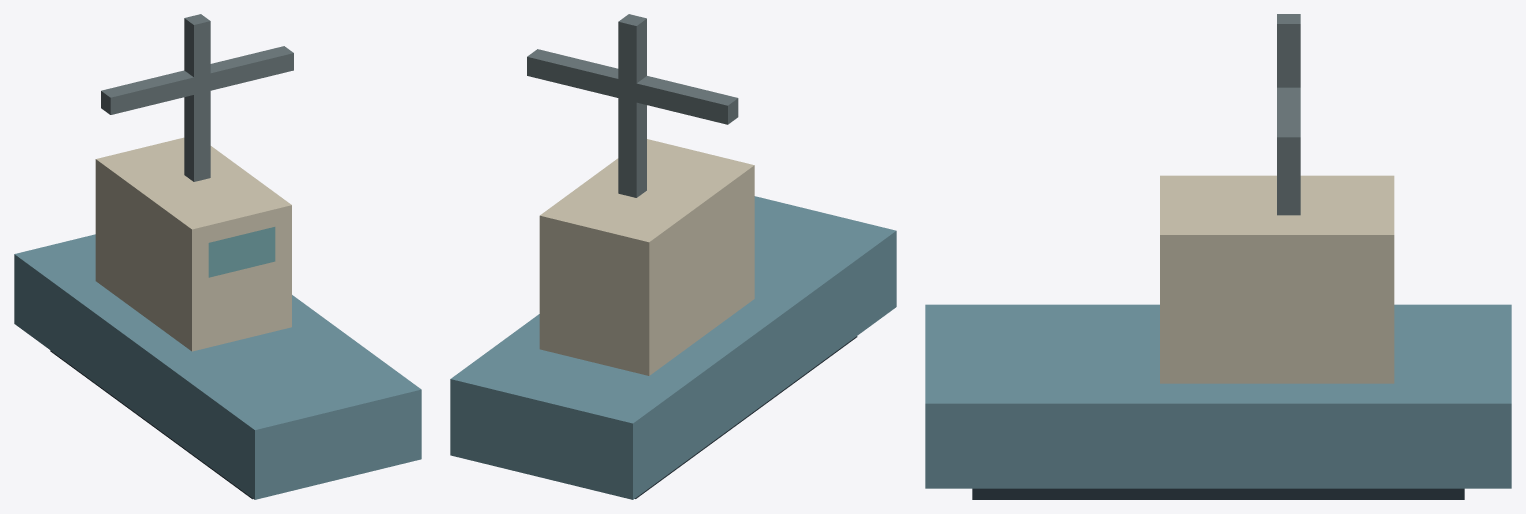
The model's file is travel-16.glb.
The picture shows the model from 3 angles, left to right: view 1: azimuth 30°, elevation 25°; view 2: azimuth 150°, elevation 25°; view 3: azimuth 270°, elevation 25°; orthographic projection. The views are drawn at different scales.
Visible parts, largest first — view 1: Cruise ship; view 2: Cruise ship; view 3: Cruise ship.
Boxes of the visible parts, <box> form: Cruise ship: <box>14,14,421,499</box>; Cruise ship: <box>450,14,896,499</box>; Cruise ship: <box>925,14,1511,499</box>.
Bounding box in the file's own units: 0.88 × 1.68 × 2.
